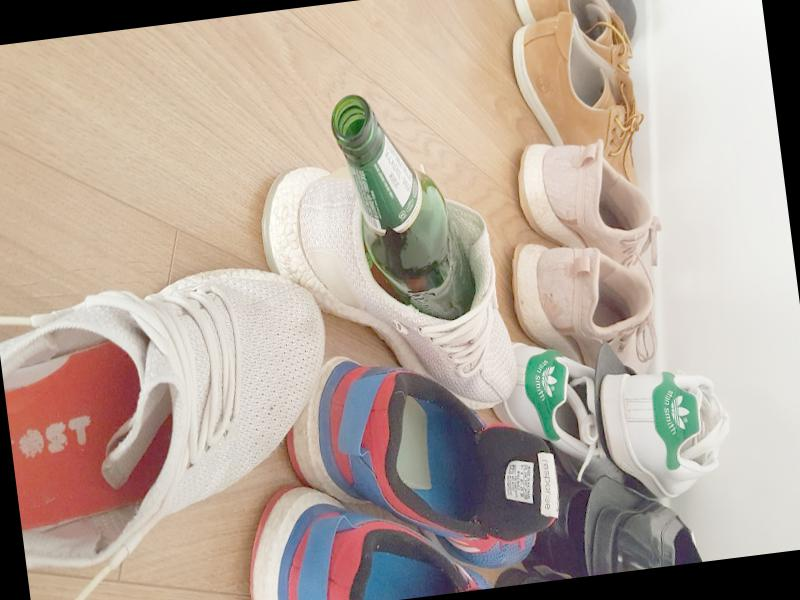Beer: (328, 82, 483, 332)
